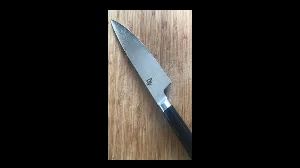k1: (109, 17, 173, 110)
